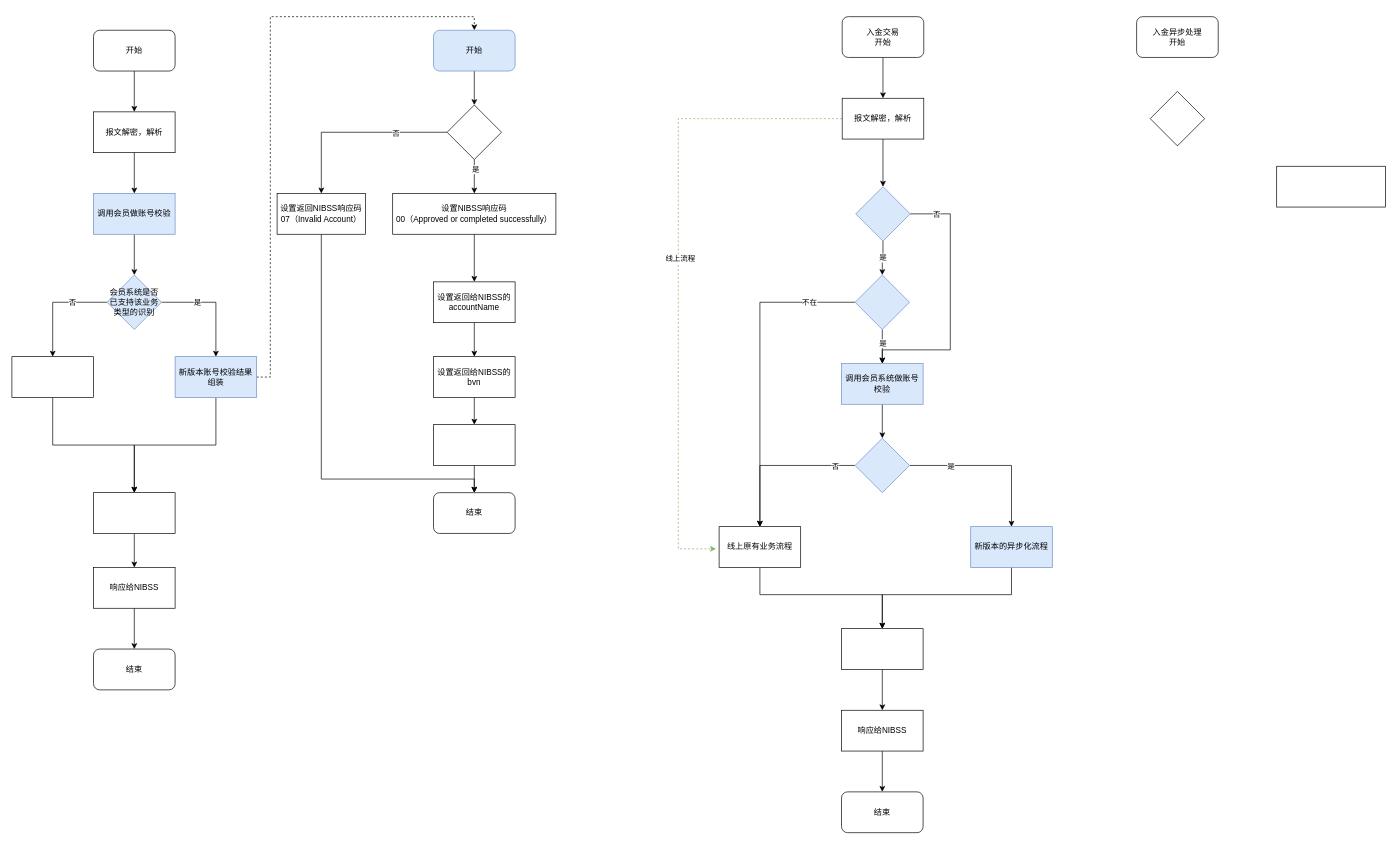
This 1397x845 diagram has some shape labels left out. The shapes that lost their labels are listed below. From the top down, each one's centre as x and y in pixels, then its label:
At (474,131): "判断是否是有效账号".
At (1177,118): "是否是有效账号".
At (1331,186): "设置返回NIBSS的响应码 07（Invalid Account）".
At (882,213): "白名单开关是否打开".
At (882,301): "收款账号是否在白名单中".
At (52,376): "原有账号校验逻辑".
At (474,444): "设置返回给NIBSS的 kycLevel".
At (882,465): "是否是当前支持的业务".
At (134,512): "账号校验结果加密".
At (882,648): "交易处理结果加密".
